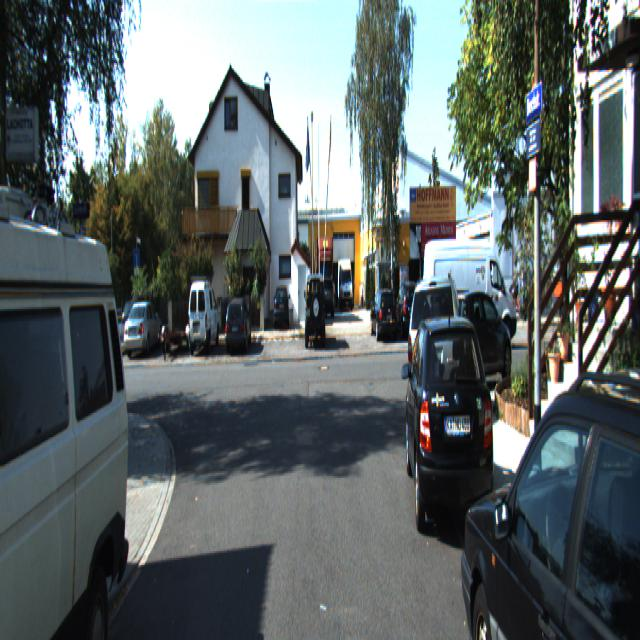Car: (0, 181, 137, 638), (453, 323, 639, 638), (0, 193, 84, 486), (405, 302, 503, 536), (421, 224, 518, 344), (405, 258, 468, 428), (188, 277, 220, 356), (124, 298, 165, 357), (368, 287, 398, 343), (304, 276, 326, 352), (224, 300, 252, 358), (316, 235, 332, 313), (336, 254, 352, 311)
